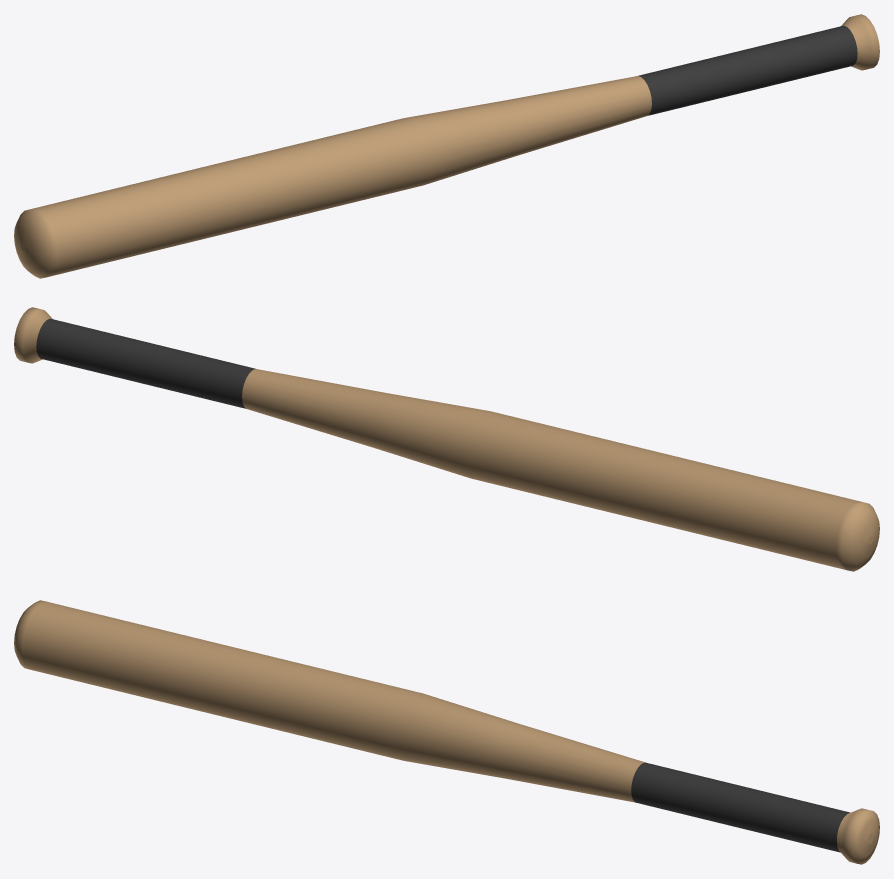
File: BaseballBat.fbx
3 renders of one model, top to bottom at view 1: azimuth 30°, elevation 25°; view 2: azimuth 150°, elevation 25°; view 3: azimuth 330°, elevation 25°, orthographic.
Visible parts, largest first — view 1: pCylinder1; view 2: pCylinder1; view 3: pCylinder1.
Part boxes in pixels (x1,y1,x2,y2): pCylinder1: [14, 14, 879, 278]; pCylinder1: [14, 307, 879, 571]; pCylinder1: [14, 600, 879, 864].
Size of the model in its own units: 16.24 by 1.17 by 1.17.
